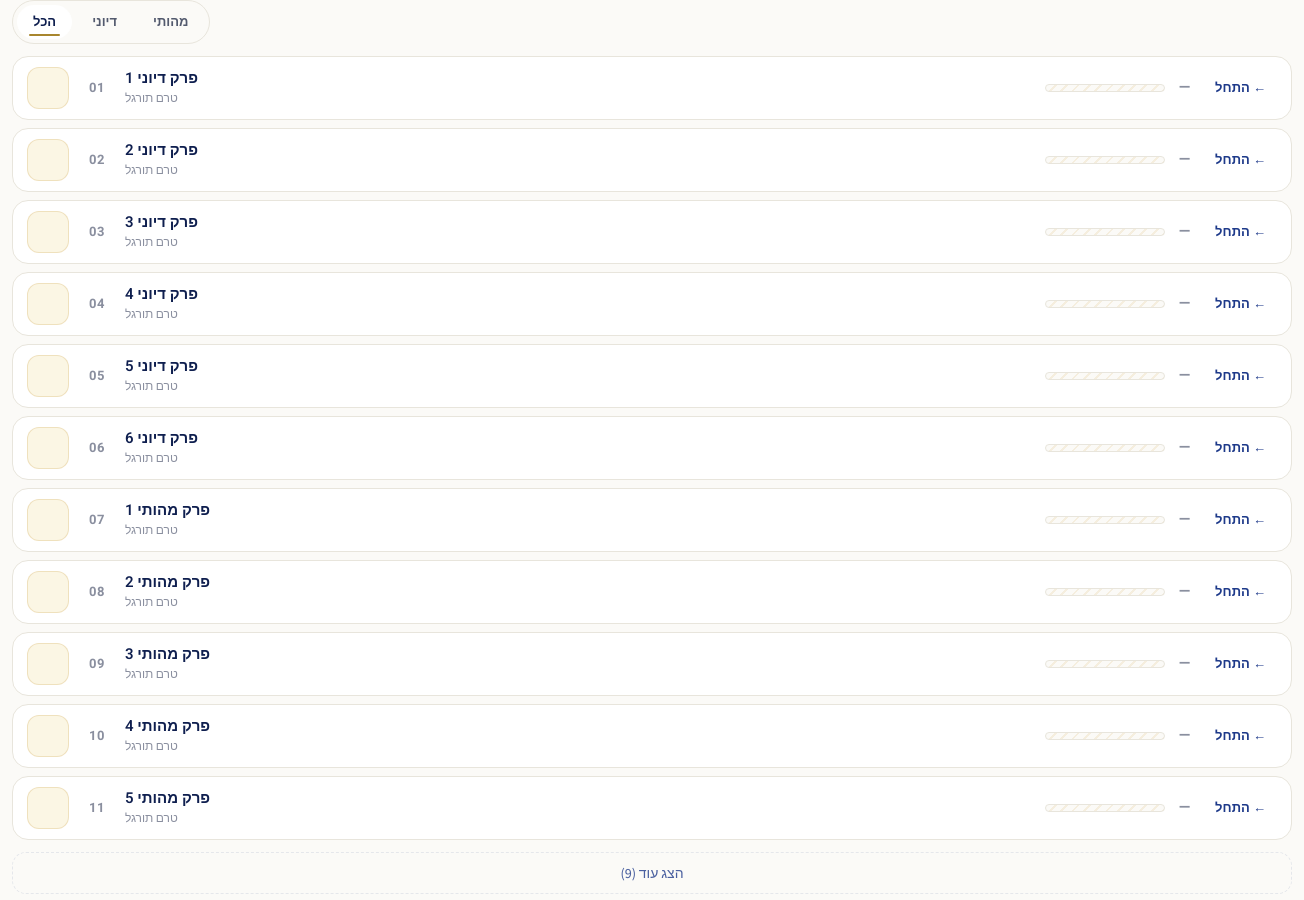
Test: MasteryRowsClient › 'הצג עוד' expands to the full set; 'הצג פחות' collapses back to CAP
Step 1. Click the button with test id "mastery-toggle-desktop" → (652, 872), box [12,852,1292,894]
(page scrolled)
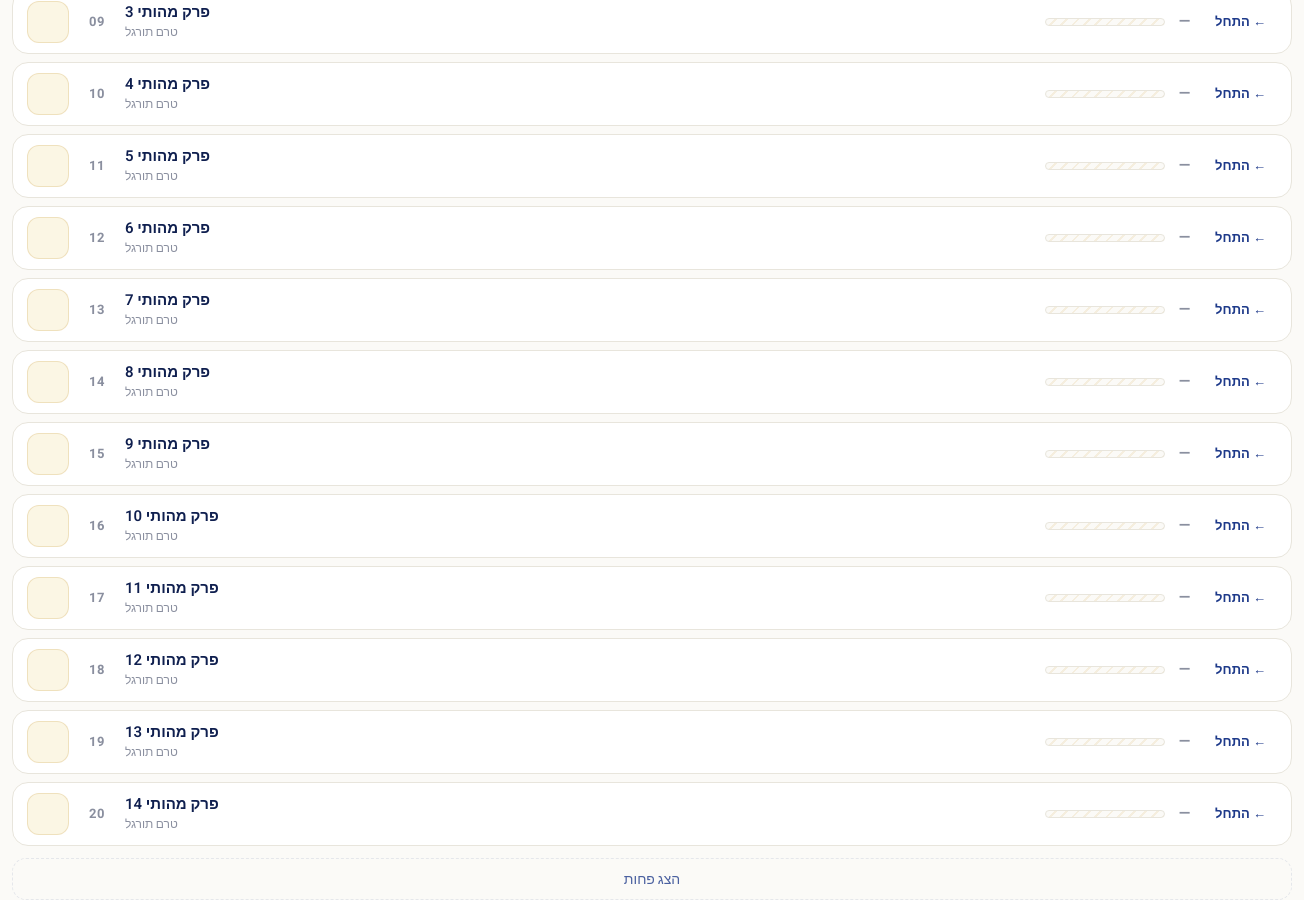
Step 2. Click the button with test id "mastery-toggle-desktop" → (652, 878), box [12,858,1292,899]
(page scrolled)
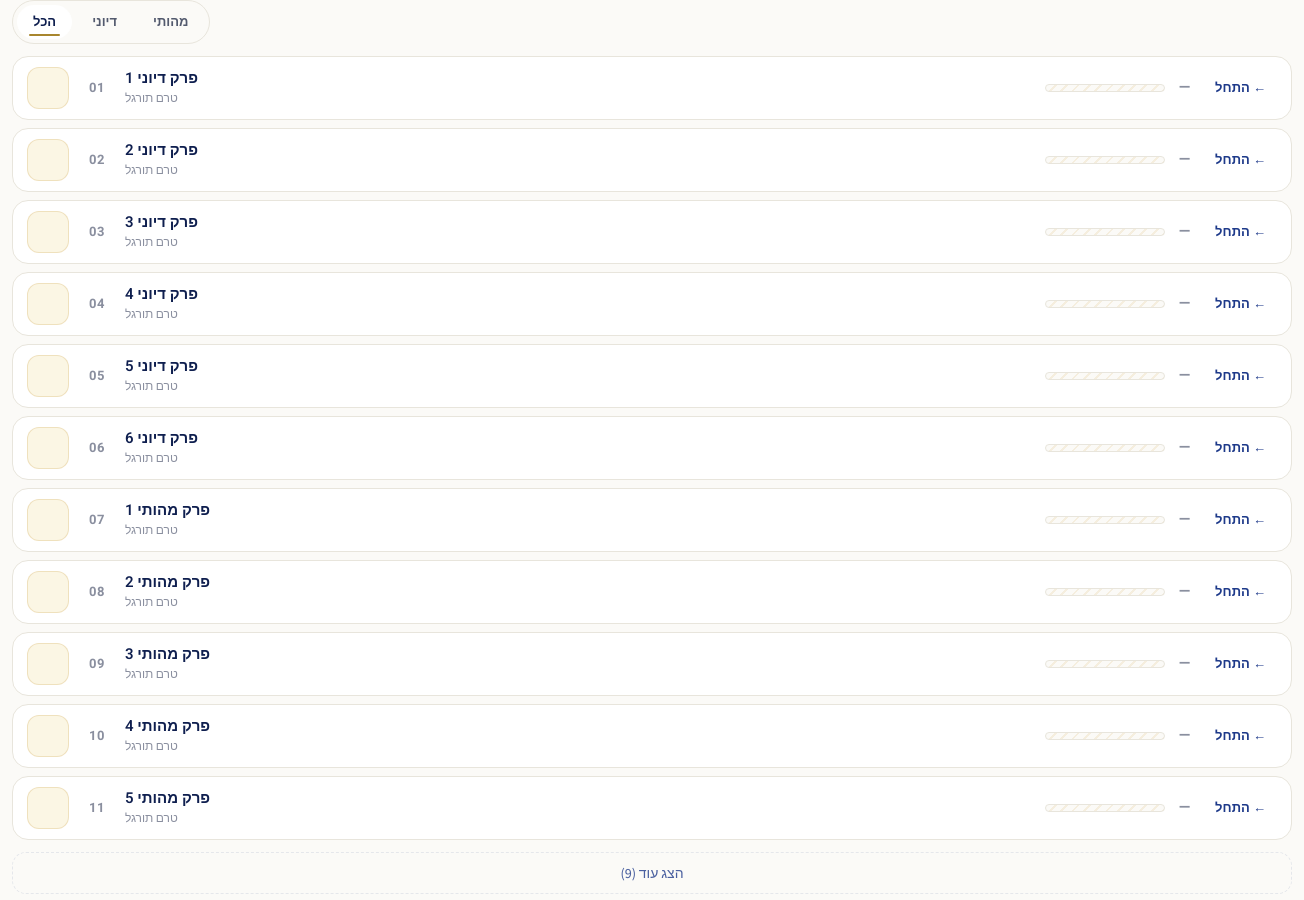
Check: the number of links is 11
